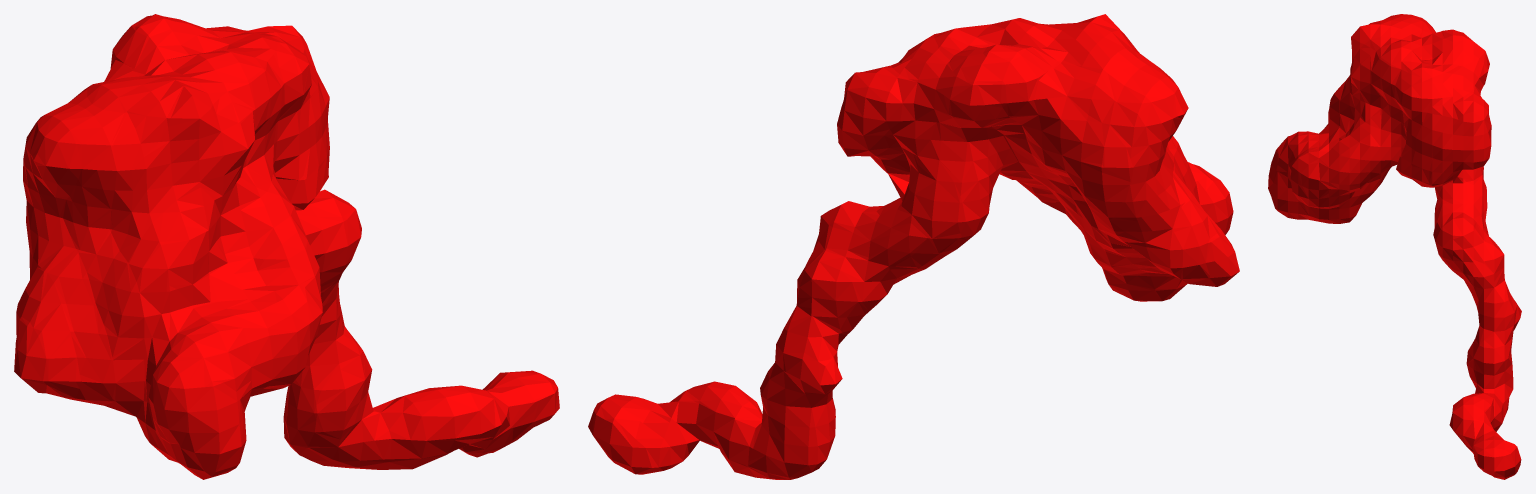
File: oppC_coarse.dae
3 views of the same model, side by side, from view 1: azimuth 30°, elevation 25°; view 2: azimuth 150°, elevation 25°; view 3: azimuth 270°, elevation 25° (orthographic). The views are drawn at different scales.
Visible parts, largest first — view 1: oppC; view 2: oppC; view 3: oppC.
Part boxes in pixels (bbox=[...]): oppC: bbox=[14, 14, 559, 479]; oppC: bbox=[588, 14, 1239, 479]; oppC: bbox=[1268, 14, 1521, 479].
Size of the model in its own units: 112 by 92.37 by 63.68.
